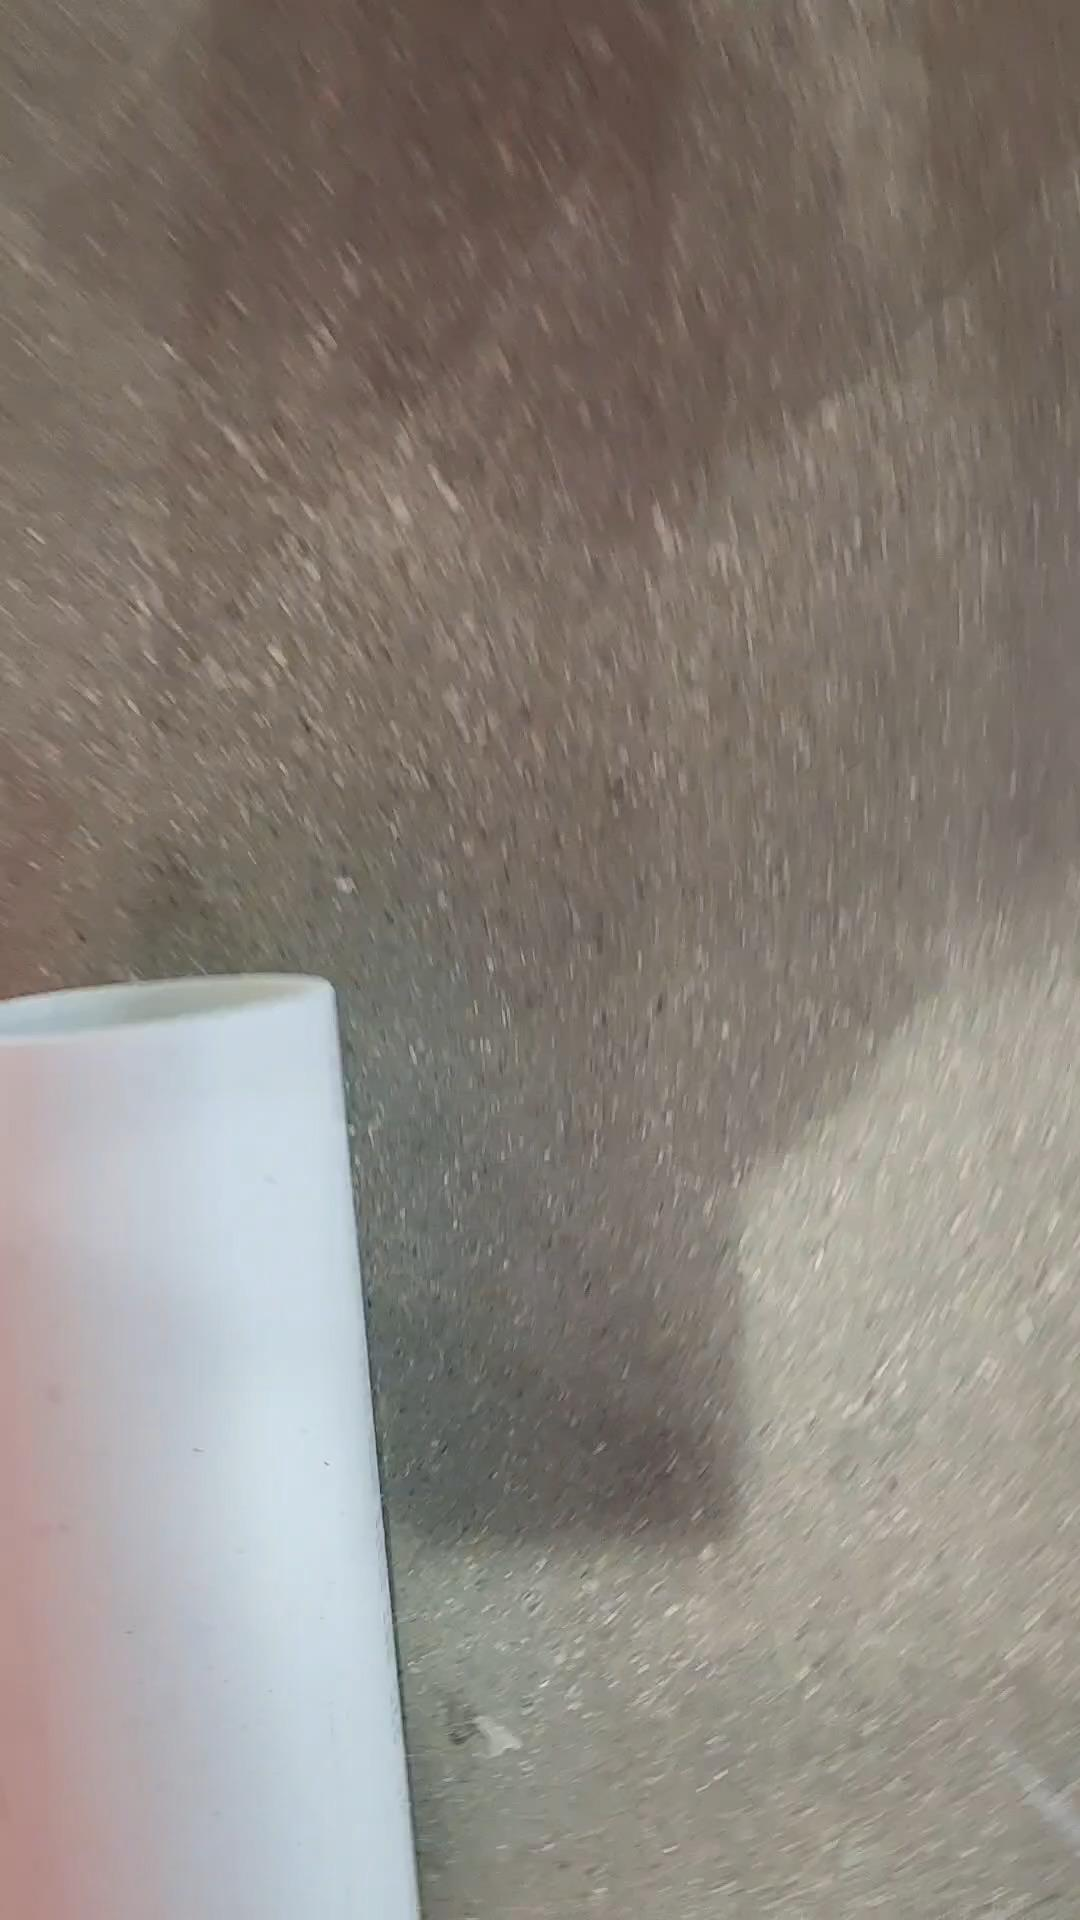coral: (0, 970, 437, 1920)
